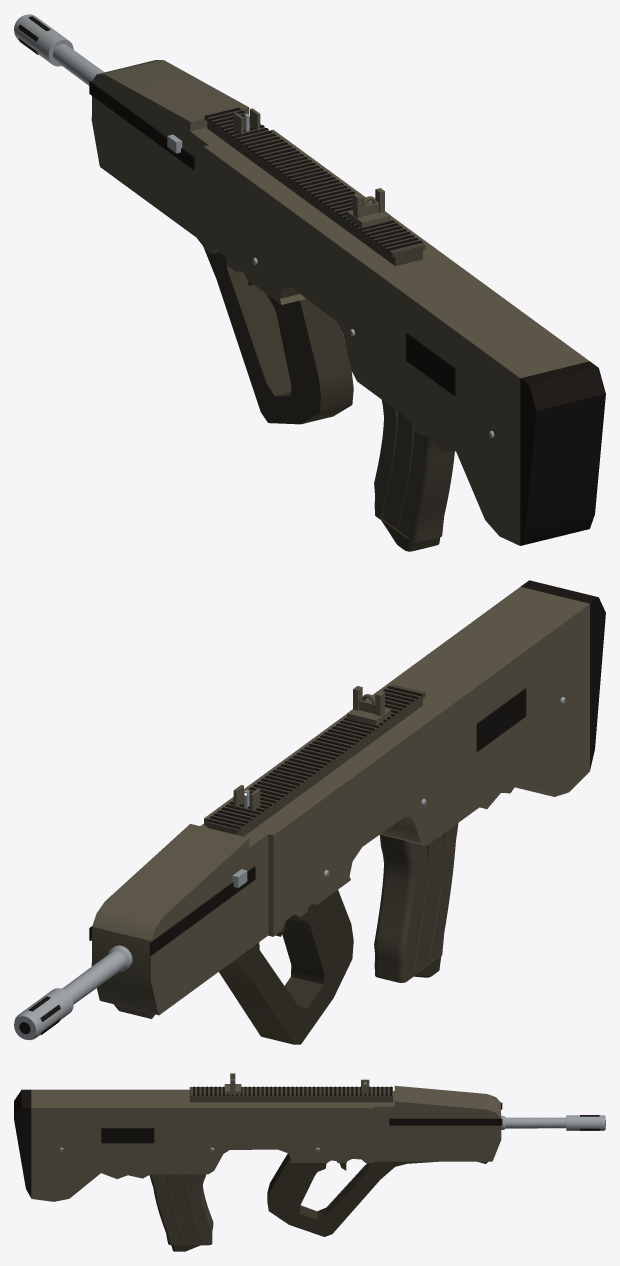
The model's file is ar-kek.glb.
3 views of the same model, one above another, from view 1: azimuth 30°, elevation 25°; view 2: azimuth 150°, elevation 25°; view 3: azimuth 270°, elevation 25° (orthographic). The views are drawn at different scales.
Visible parts, largest first — view 1: MT_Body, MT_Mag, MT_Hider, MT_IronRear; view 2: MT_Body, MT_Mag, MT_Hider, MT_IronRear; view 3: MT_Body, MT_Mag, MT_Hider, MT_IronRear.
Boxes of the visible parts, x1,y1,x2,y2 form: MT_Body: [52, 44, 605, 545]; MT_Mag: [374, 400, 454, 551]; MT_Hider: [14, 14, 73, 66]; MT_IronRear: [347, 188, 390, 227]; MT_Body: [62, 580, 605, 1044]; MT_Mag: [374, 823, 458, 982]; MT_Hider: [14, 988, 73, 1040]; MT_IronRear: [347, 686, 390, 725]; MT_Body: [14, 1085, 566, 1236]; MT_Mag: [149, 1174, 213, 1251]; MT_Hider: [566, 1115, 605, 1130]; MT_IronRear: [224, 1073, 241, 1095].
Size of the model in its own units: 0.0568 by 0.2288 by 0.7196.
